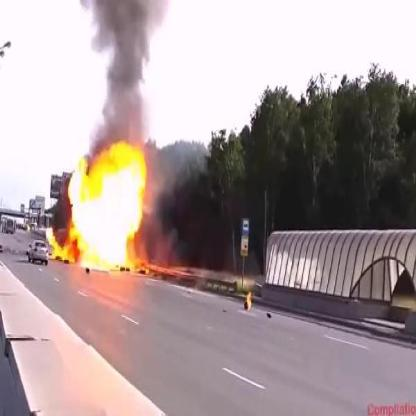fire: (46, 138, 155, 271), (245, 291, 252, 312)
